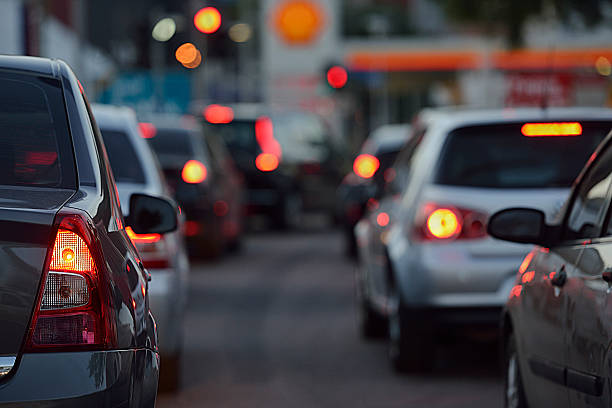car: (360, 97, 570, 334), (1, 51, 127, 408), (509, 136, 612, 405), (105, 105, 207, 330), (156, 106, 247, 240)
